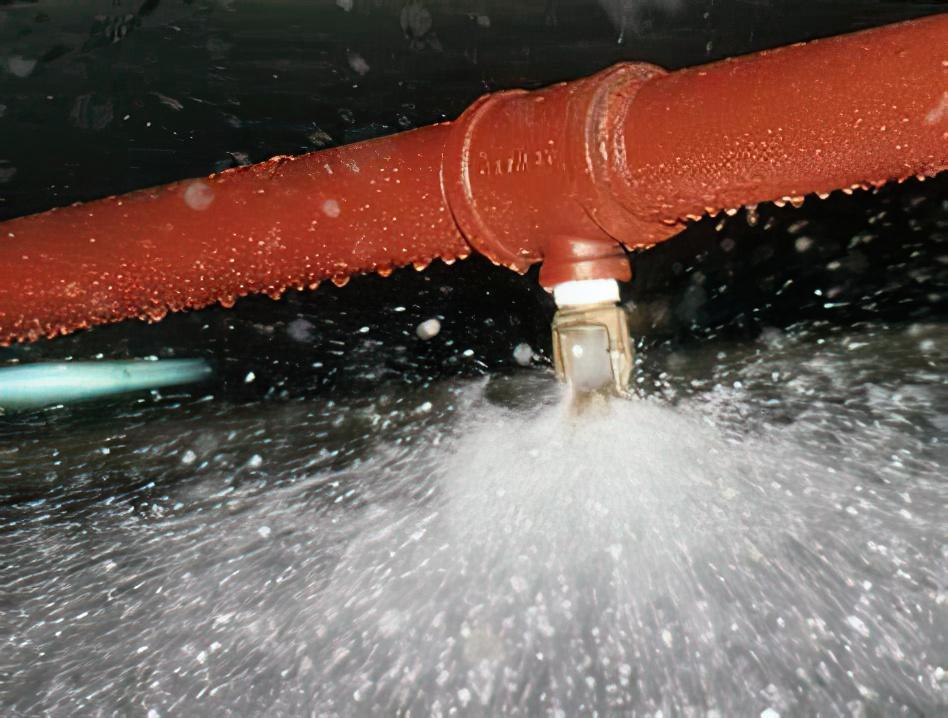pipe burst: (0, 384, 948, 718)
water drop: (770, 194, 804, 209), (742, 198, 759, 225), (722, 202, 741, 218), (330, 272, 350, 287), (660, 212, 677, 225), (148, 308, 166, 320), (816, 186, 831, 200), (840, 179, 854, 194), (442, 252, 457, 266), (220, 295, 235, 309), (414, 258, 430, 271), (265, 286, 280, 299), (704, 206, 718, 218), (379, 265, 393, 277), (684, 212, 702, 221), (168, 302, 184, 312), (190, 299, 202, 310), (308, 279, 320, 289), (292, 280, 304, 290)
